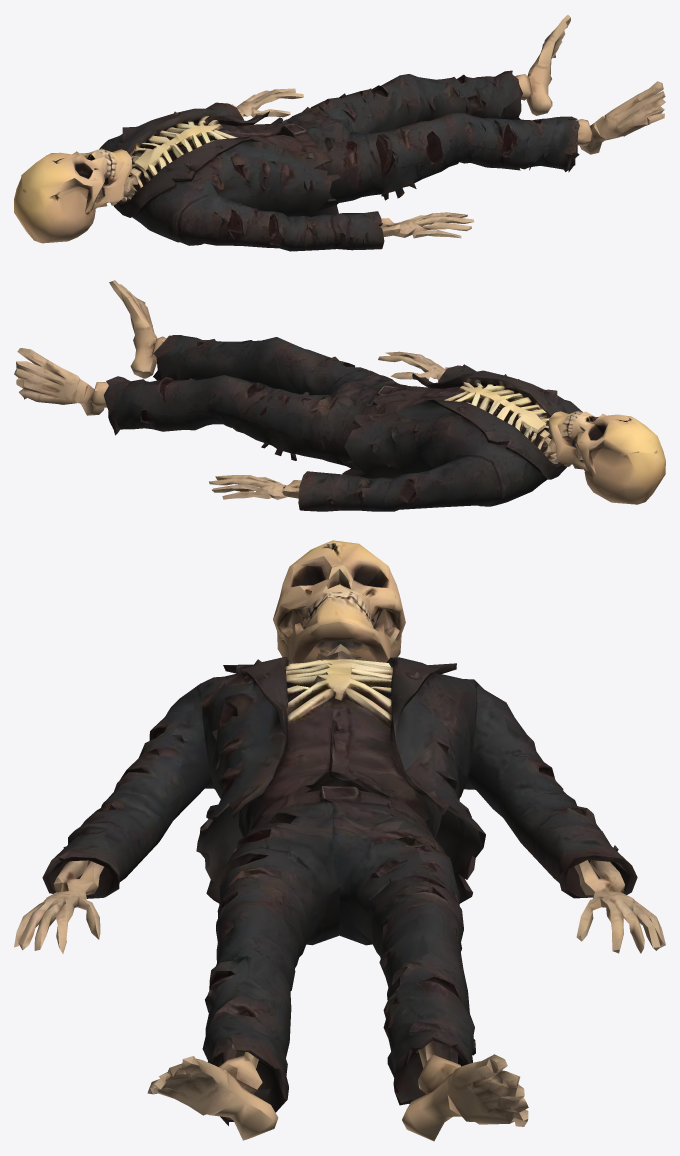
The model's file is corpse_zombie_svezhee_idle.glb.
3 renders of one model, top to bottom at view 1: azimuth 30°, elevation 25°; view 2: azimuth 150°, elevation 25°; view 3: azimuth 270°, elevation 25°, orthographic. The views are drawn at different scales.
Parts seen in each view (by area): view 1: tripo_node_369afc6e-21bd-45ce-ad73-16a5d66a1a9c; view 2: tripo_node_369afc6e-21bd-45ce-ad73-16a5d66a1a9c; view 3: tripo_node_369afc6e-21bd-45ce-ad73-16a5d66a1a9c.
Boxes of the visible parts, x1,y1,x2,y2 form: tripo_node_369afc6e-21bd-45ce-ad73-16a5d66a1a9c: (14,15,665,251); tripo_node_369afc6e-21bd-45ce-ad73-16a5d66a1a9c: (14,280,665,511); tripo_node_369afc6e-21bd-45ce-ad73-16a5d66a1a9c: (14,540,665,1141).
Bounding box in the file's own units: 1.8 × 0.3102 × 1.
Materials: 1 (1 with a texture image).
